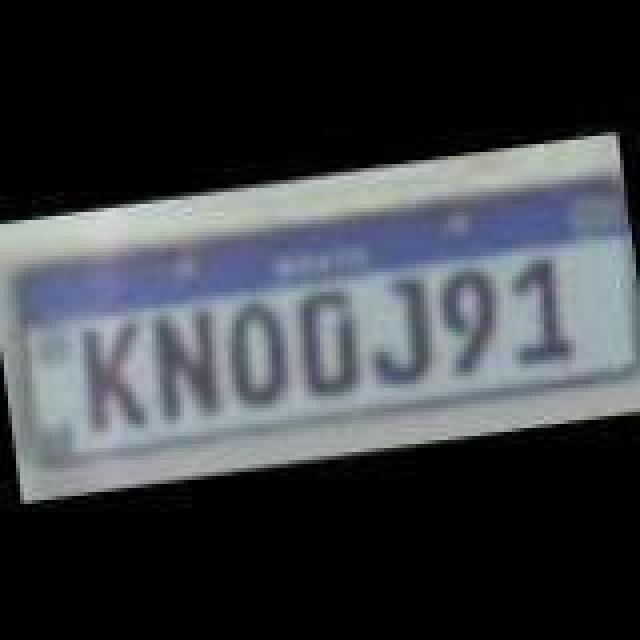1: (496, 248, 576, 368)
9: (424, 256, 504, 380)
D: (292, 292, 364, 408)
J: (358, 272, 442, 396)
K: (78, 314, 154, 438)
N: (146, 304, 230, 428)
O: (214, 290, 298, 410)
